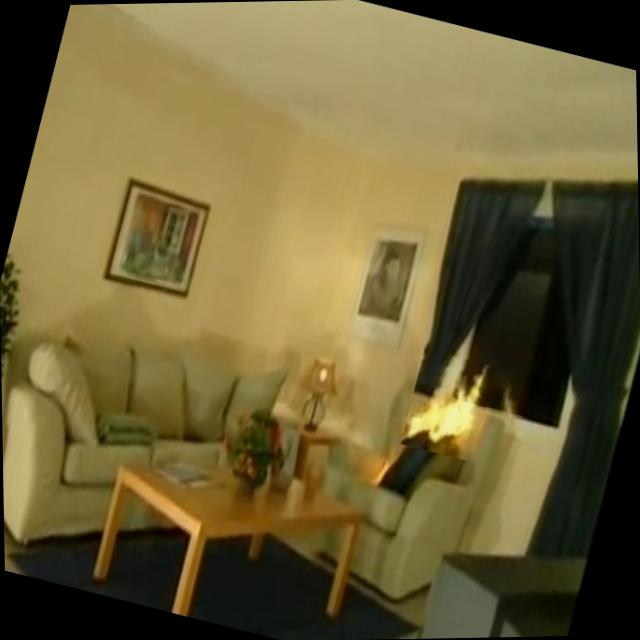fire: (405, 356, 510, 456)
